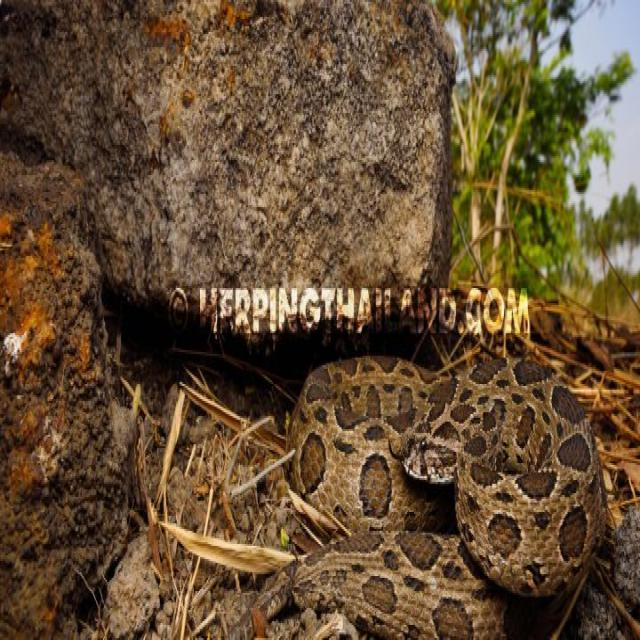Snake: (284, 348, 608, 602)
